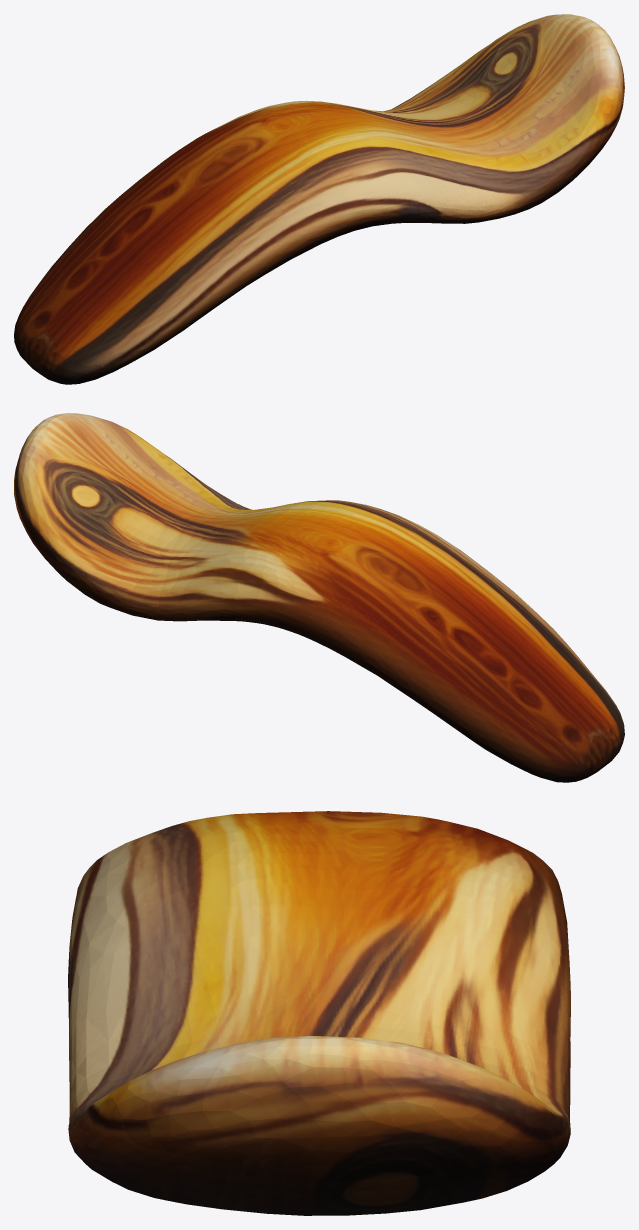
File: wooden-shoehorn-dune.jpeg.glb
3 views of the same model, one above another, from view 1: azimuth 30°, elevation 25°; view 2: azimuth 150°, elevation 25°; view 3: azimuth 270°, elevation 25° (orthographic). The views are drawn at different scales.
Parts seen in each view (by area): view 1: world; view 2: world; view 3: world.
Boxes of the visible parts, box(x1,y1,x2,y2) form: world: box(14, 14, 624, 384); world: box(14, 413, 624, 782); world: box(68, 811, 570, 1215).
Size of the model in its own units: 1 by 0.3674 by 0.383.
1 material, 1 textured.
